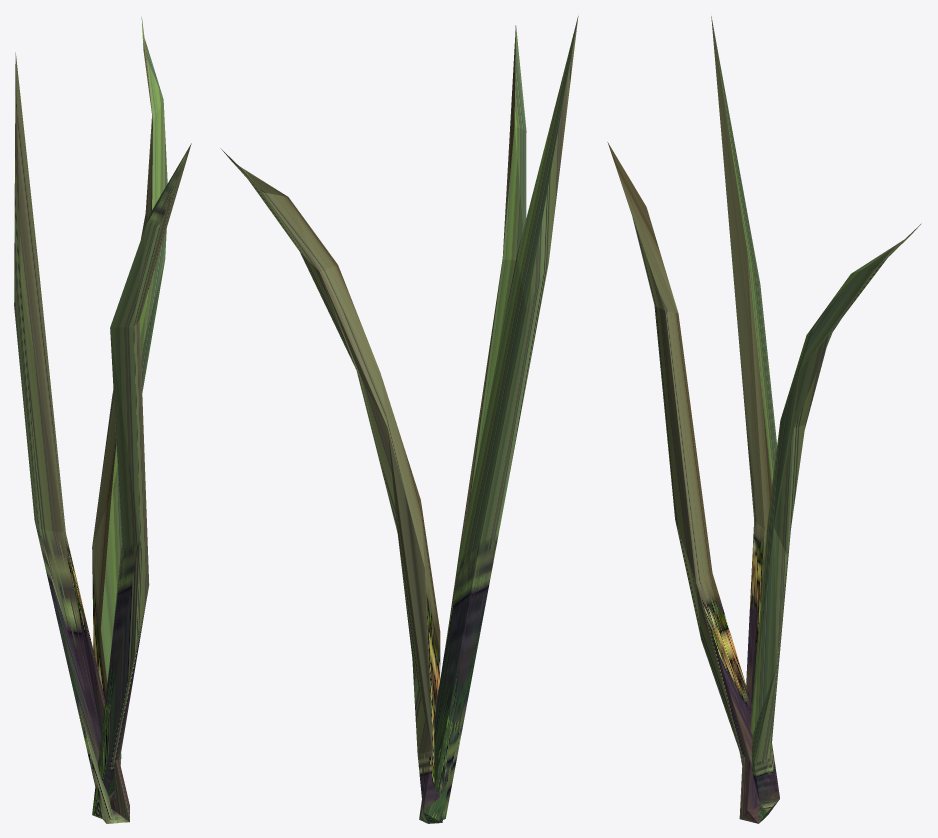
Rendered from BananaPlant_2_Branch.gltf.
3 renders of one model, left to right at view 1: azimuth 30°, elevation 25°; view 2: azimuth 150°, elevation 25°; view 3: azimuth 270°, elevation 25°, orthographic. The views are drawn at different scales.
Visible parts, largest first — view 1: BananaPlant_2_Branch; view 2: BananaPlant_2_Branch; view 3: BananaPlant_2_Branch.
Boxes of the visible parts, <box> form: BananaPlant_2_Branch: <box>14,17,191,823</box>; BananaPlant_2_Branch: <box>220,16,578,823</box>; BananaPlant_2_Branch: <box>607,16,921,823</box>.
Size of the model in its own units: 0.8681 by 2.81 by 1.07.
Materials: 1 (1 with a texture image).
